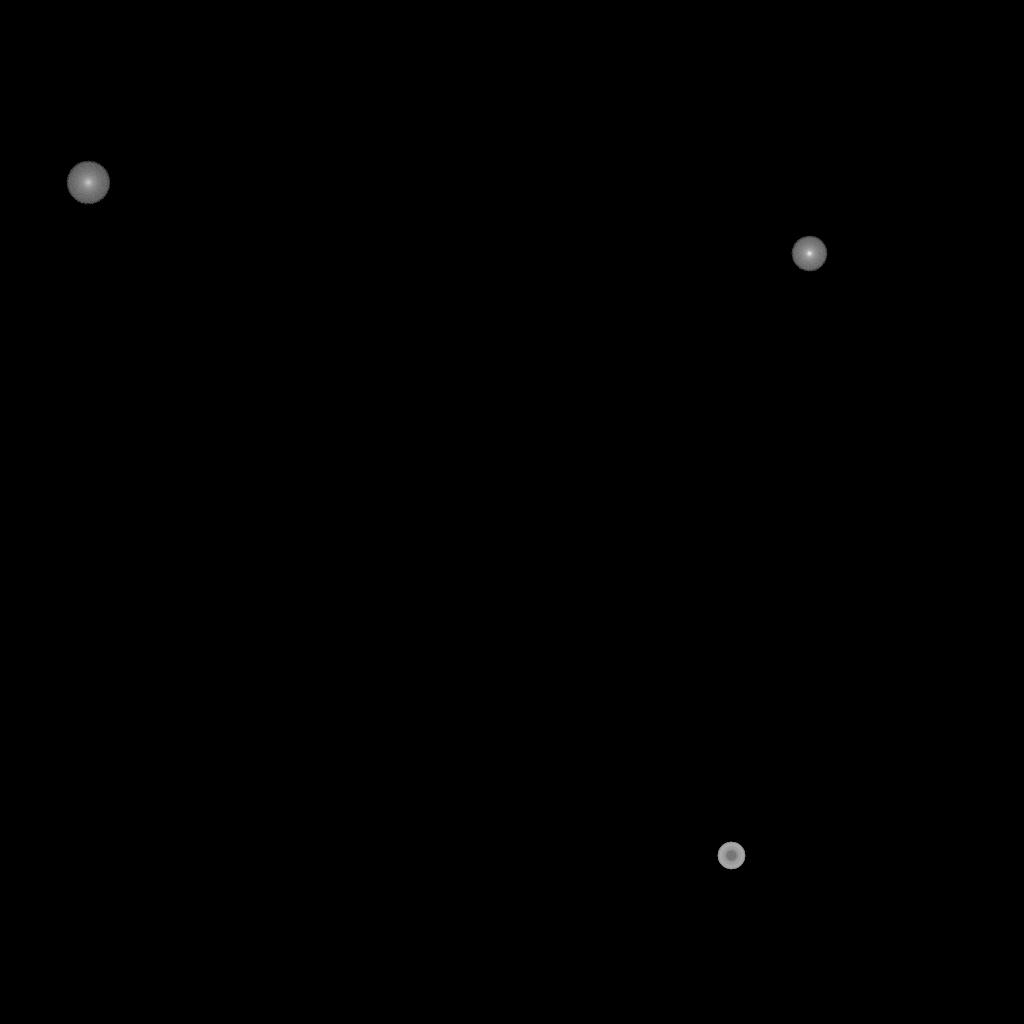depth:-50: (717, 842, 745, 870)
depth:0: (791, 236, 827, 272)
depth:10: (66, 161, 110, 205)
